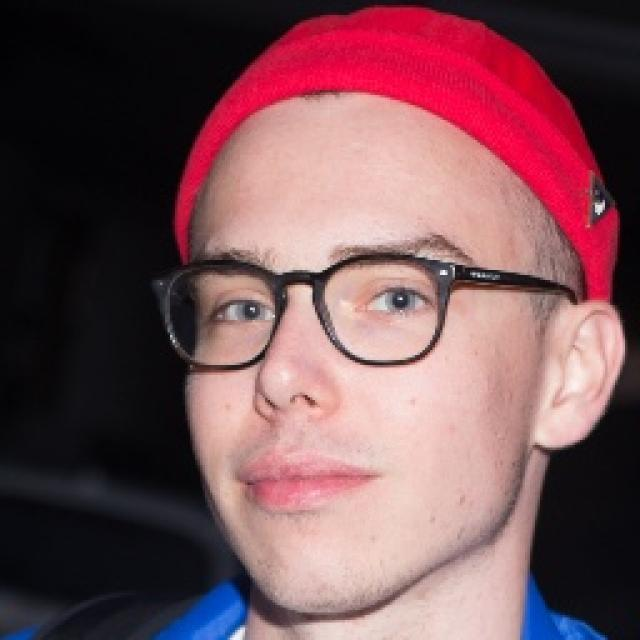earlobe: (535, 301, 625, 450)
